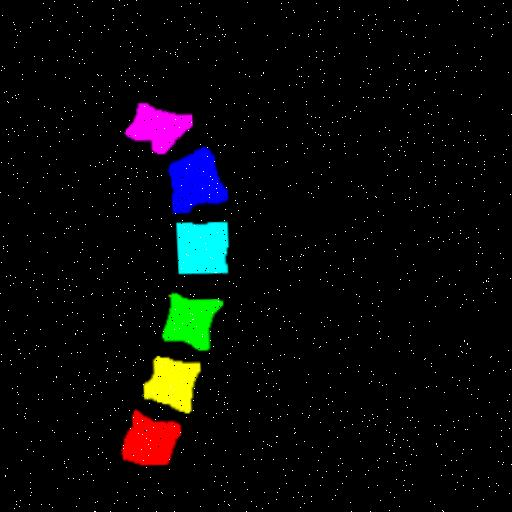L1: (122, 409, 181, 463)
L2: (143, 355, 200, 411)
L3: (163, 292, 221, 347)
L4: (176, 219, 228, 272)
L5: (170, 146, 227, 211)
S1: (125, 101, 190, 152)
